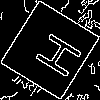H: (25, 25, 85, 81)
